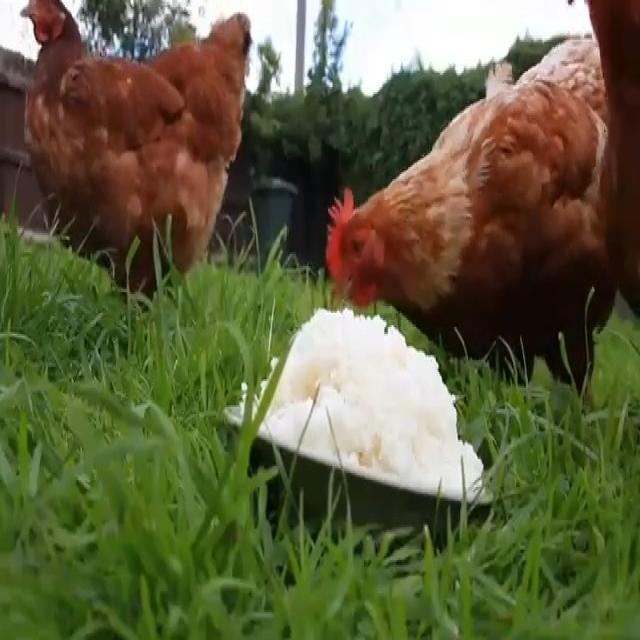feeding: (318, 41, 621, 373)
